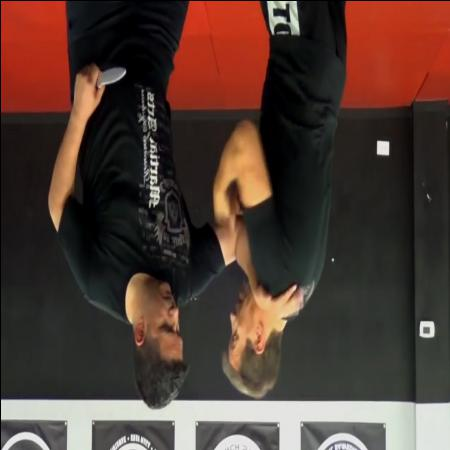long weapon: (70, 59, 128, 100)
